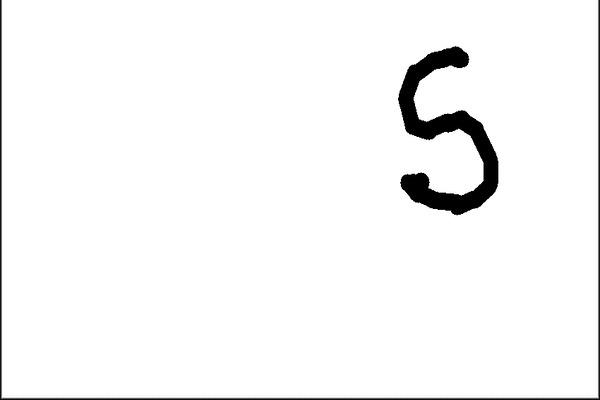S: (384, 40, 510, 221)
